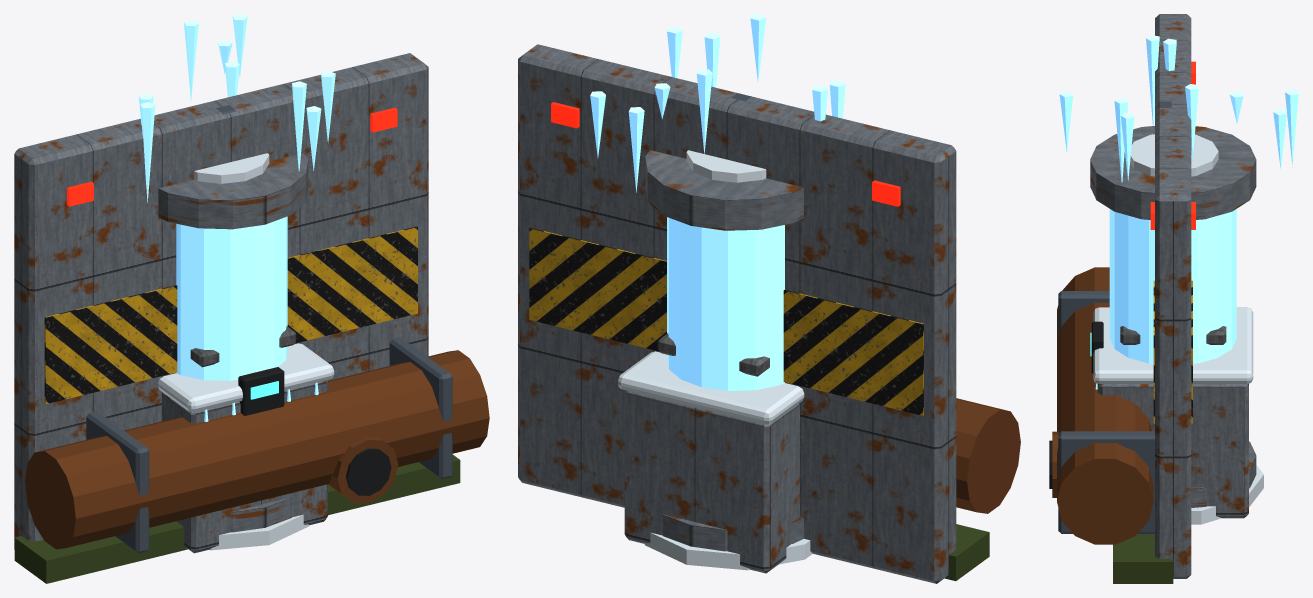
Rendered from zone2.glb.
The picture shows the model from 3 angles, left to right: view 1: azimuth 30°, elevation 25°; view 2: azimuth 150°, elevation 25°; view 3: azimuth 270°, elevation 25°; orthographic projection. The views are drawn at different scales.
Visible parts, largest first — view 1: secdoor, sewpipe, cryopod, frostcrate, icicles, icepillar, sewcol; view 2: secdoor, cryopod, frostcrate, sewpipe, icicles, icepillar, sewcol; view 3: cryopod, sewpipe, secdoor, frostcrate, icicles, icepillar, sewcol.
Part boxes in pixels (x1,y1,x2,y2): secdoor: (14, 53, 428, 549); sewpipe: (14, 337, 489, 583); cryopod: (158, 153, 308, 532); frostcrate: (158, 343, 334, 553); icicles: (139, 14, 335, 202); icepillar: (209, 514, 308, 550); sewcol: (190, 326, 295, 367); secdoor: (518, 44, 956, 583); cryopod: (645, 150, 803, 551); frostcrate: (618, 351, 804, 573); sewpipe: (944, 398, 1020, 580); icicles: (590, 14, 845, 192); icepillar: (644, 532, 812, 570); sewcol: (658, 333, 769, 376); cryopod: (1090, 126, 1256, 507); sewpipe: (1049, 267, 1173, 583); secdoor: (1150, 14, 1195, 578); frostcrate: (1093, 307, 1253, 518); icicles: (1059, 35, 1298, 182); icepillar: (1191, 465, 1263, 524); sewcol: (1120, 326, 1226, 344).
Bounding box in the file's own units: 3 × 3.04 × 1.65.
16 materials, 3 textured.
